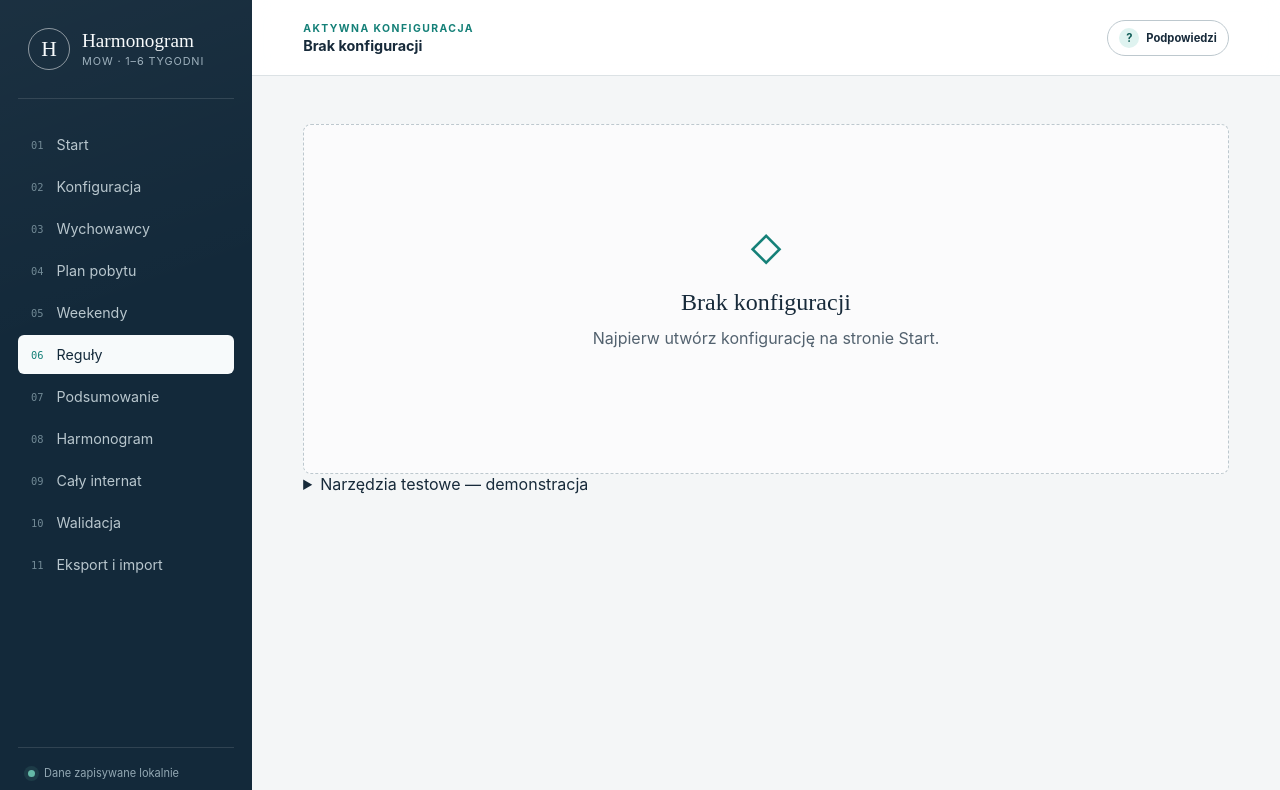
Test: główny przepływ interfejsu › wczytuje demonstrację wyłącznie z narzędzi testowych w Regułach
The width and height of the screenshot is (1280, 790).
Click the heading "Narzędzia testowe — demonstracja" at [454, 484], box [320,474,588,494]
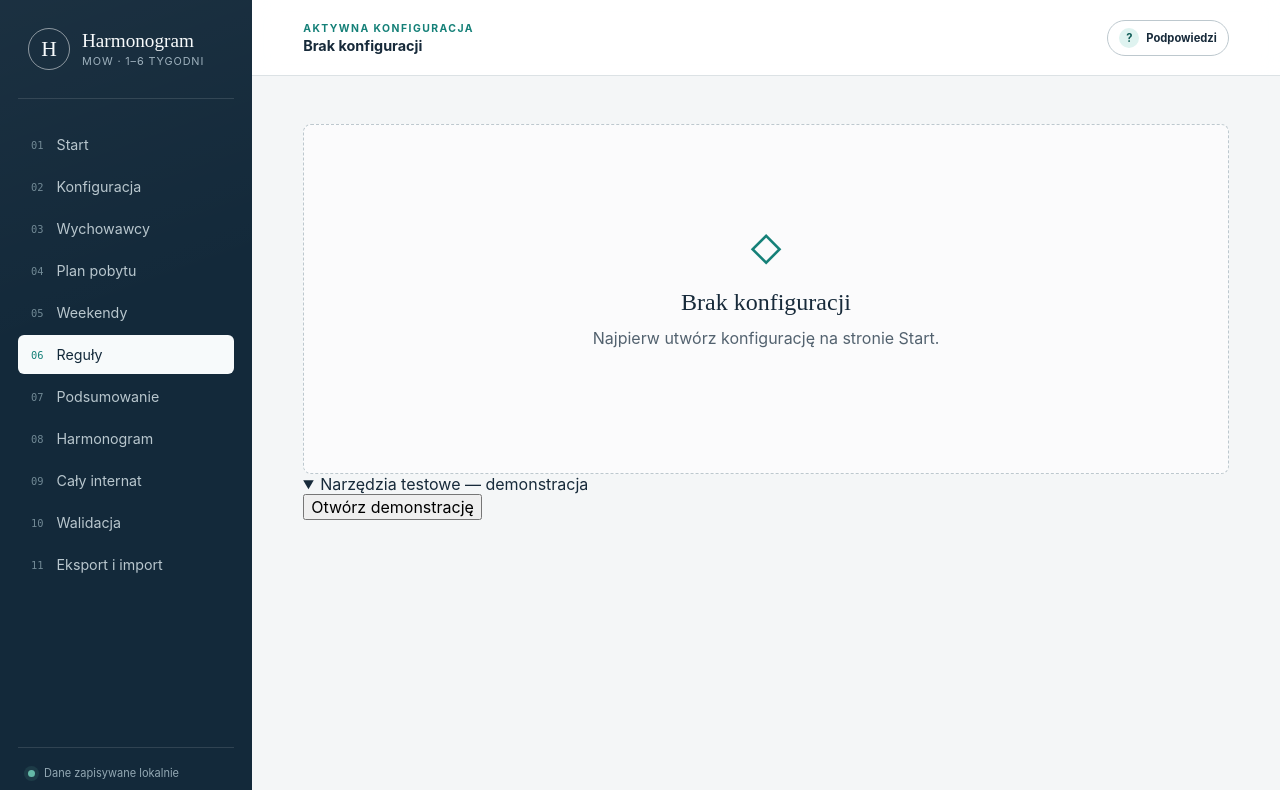
Click the button "Otwórz demonstrację" at [393, 507], box [303,494,482,520]
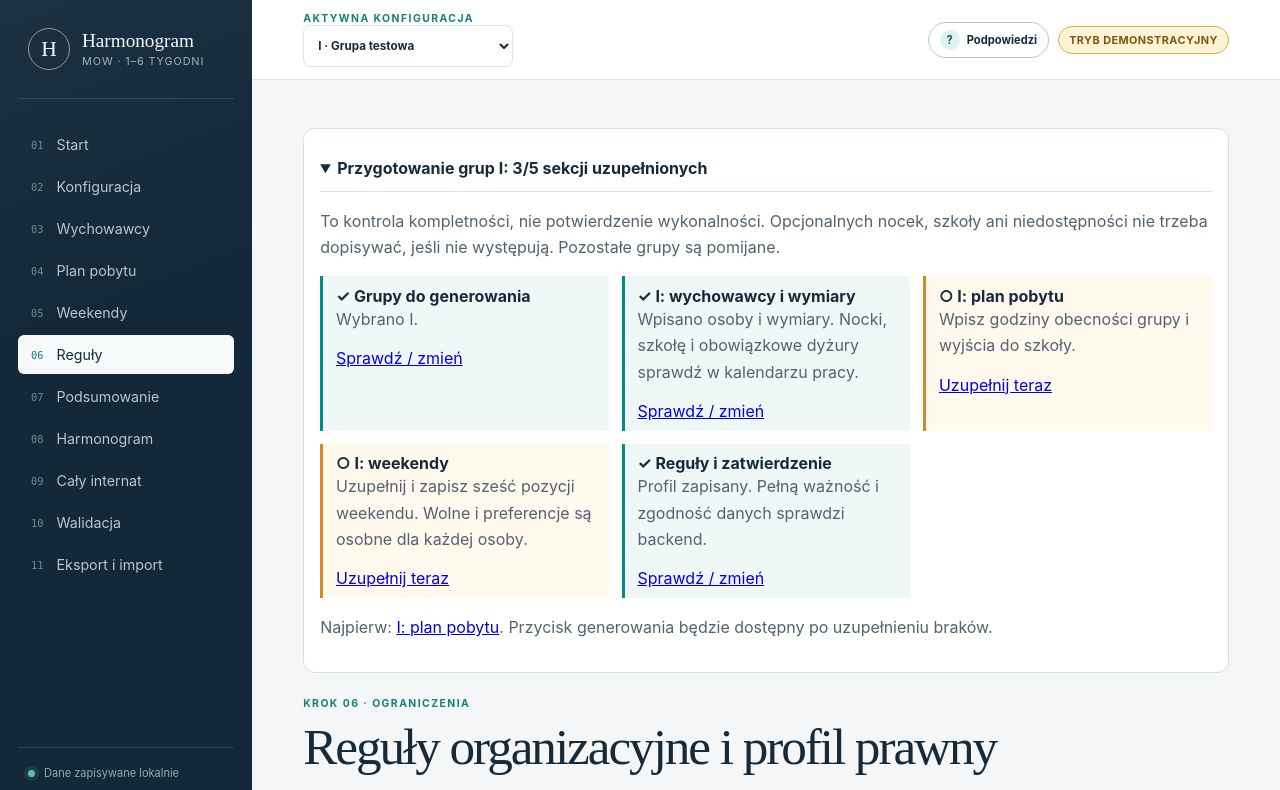
Check: the heading "Reguły organizacyjne i profil prawny" is shown, box [303,720,1023,774]
